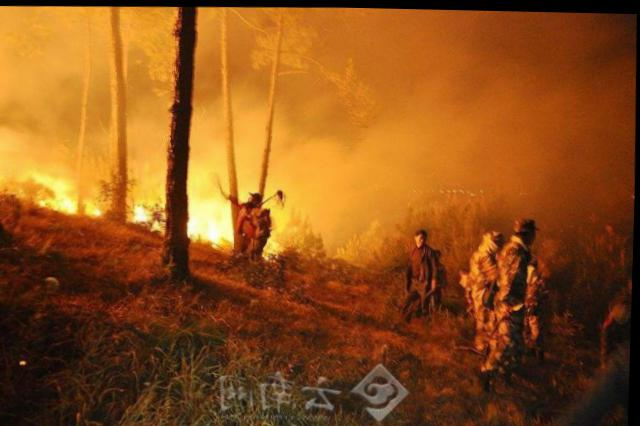fire: (24, 170, 110, 215), (188, 203, 238, 243), (133, 193, 163, 234), (264, 225, 282, 258)
